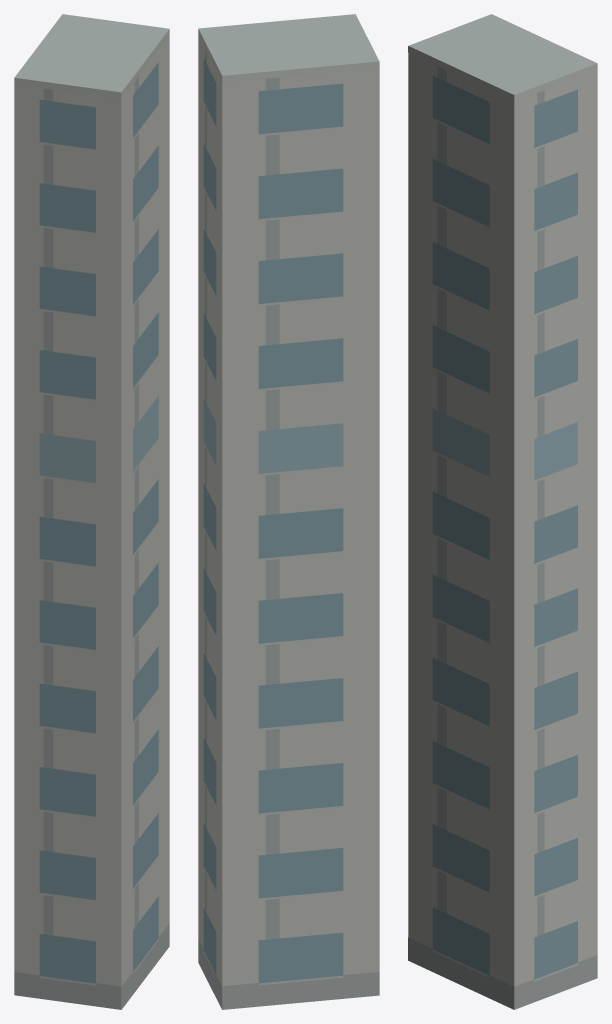
The model's file is survey-upis-32530629.glb.
3 renders of one model, left to right at view 1: azimuth 30°, elevation 25°; view 2: azimuth 150°, elevation 25°; view 3: azimuth 270°, elevation 25°, orthographic. The views are drawn at different scales.
Parts seen in each view (by area): view 1: survey-upis-32530629.tmp; view 2: survey-upis-32530629.tmp; view 3: survey-upis-32530629.tmp.
Part boxes in pixels (<box>): survey-upis-32530629.tmp: <box>14,14,169,1009</box>; survey-upis-32530629.tmp: <box>198,14,379,1009</box>; survey-upis-32530629.tmp: <box>408,14,597,1009</box>.
Bounding box in the file's own units: 6.38 × 33.55 × 6.3.
